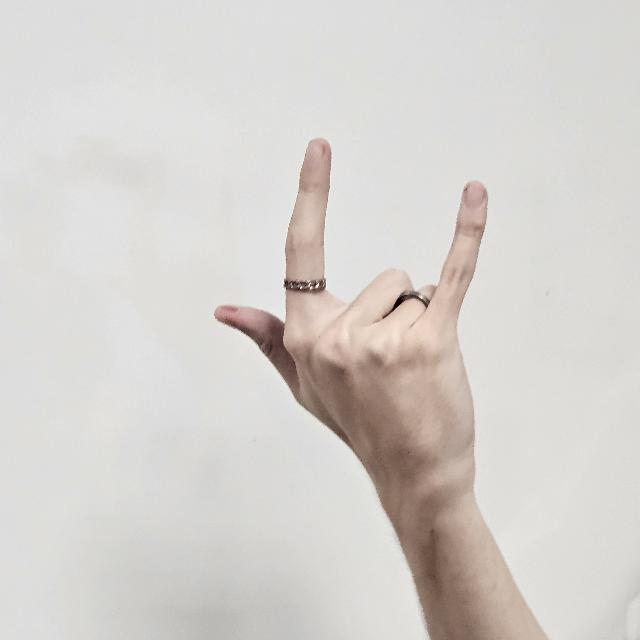Cima: (215, 132, 488, 524)
